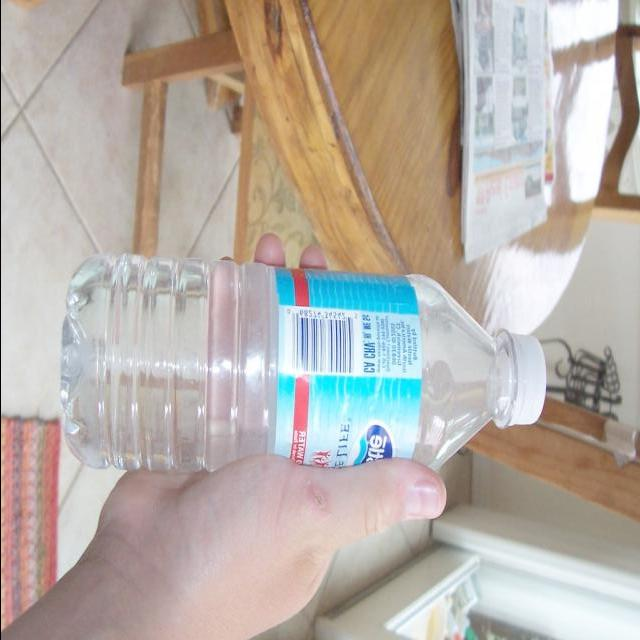cap: (505, 328, 543, 432)
label: (267, 268, 415, 464)
not-crumbled: (54, 247, 552, 476)
